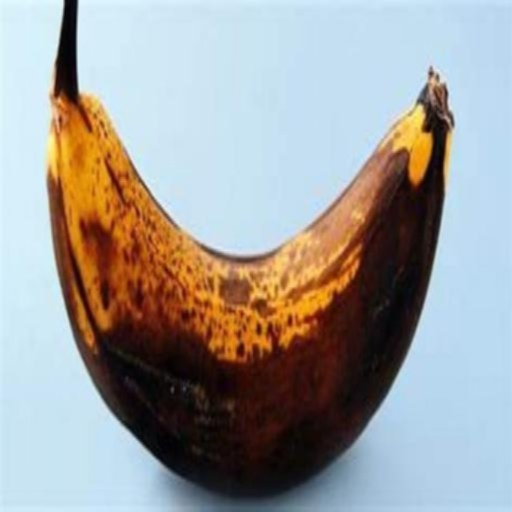fruit: (0, 0, 295, 41)
